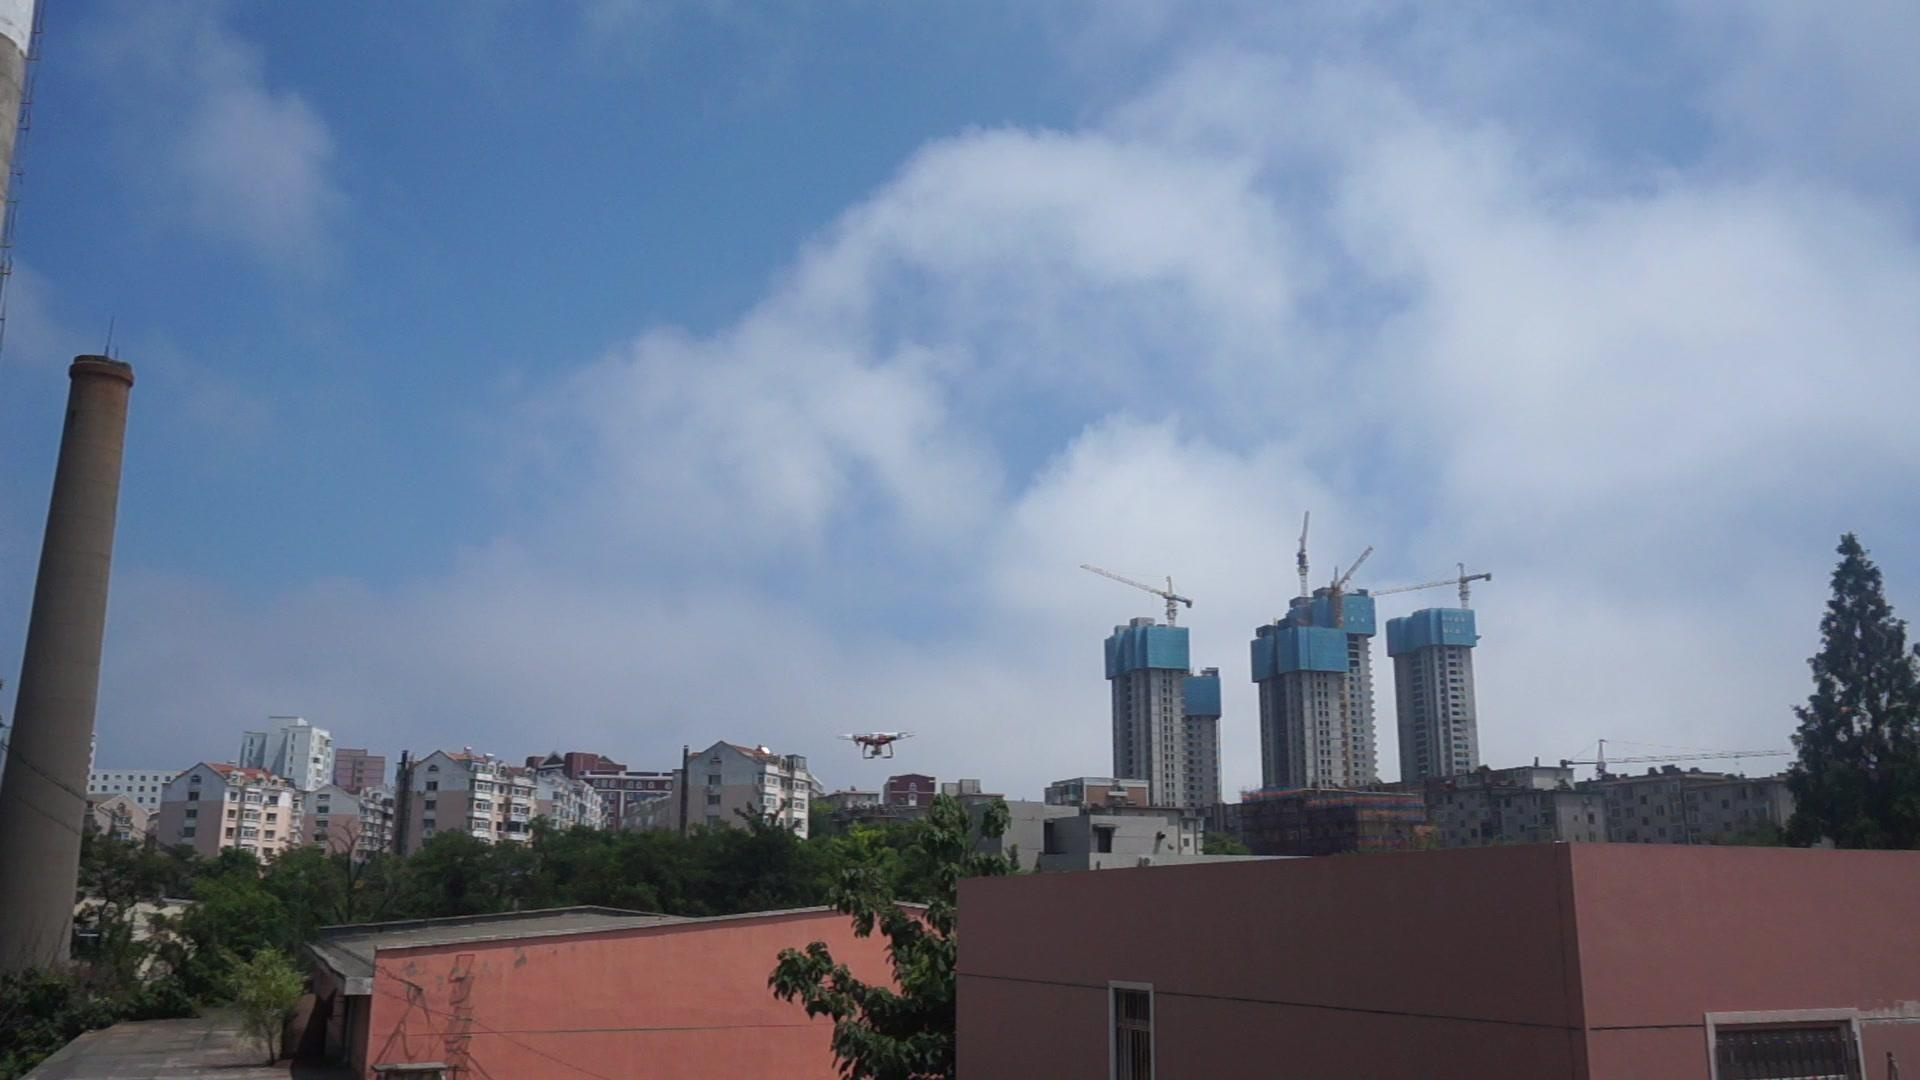UAV: (837, 732, 916, 760)
